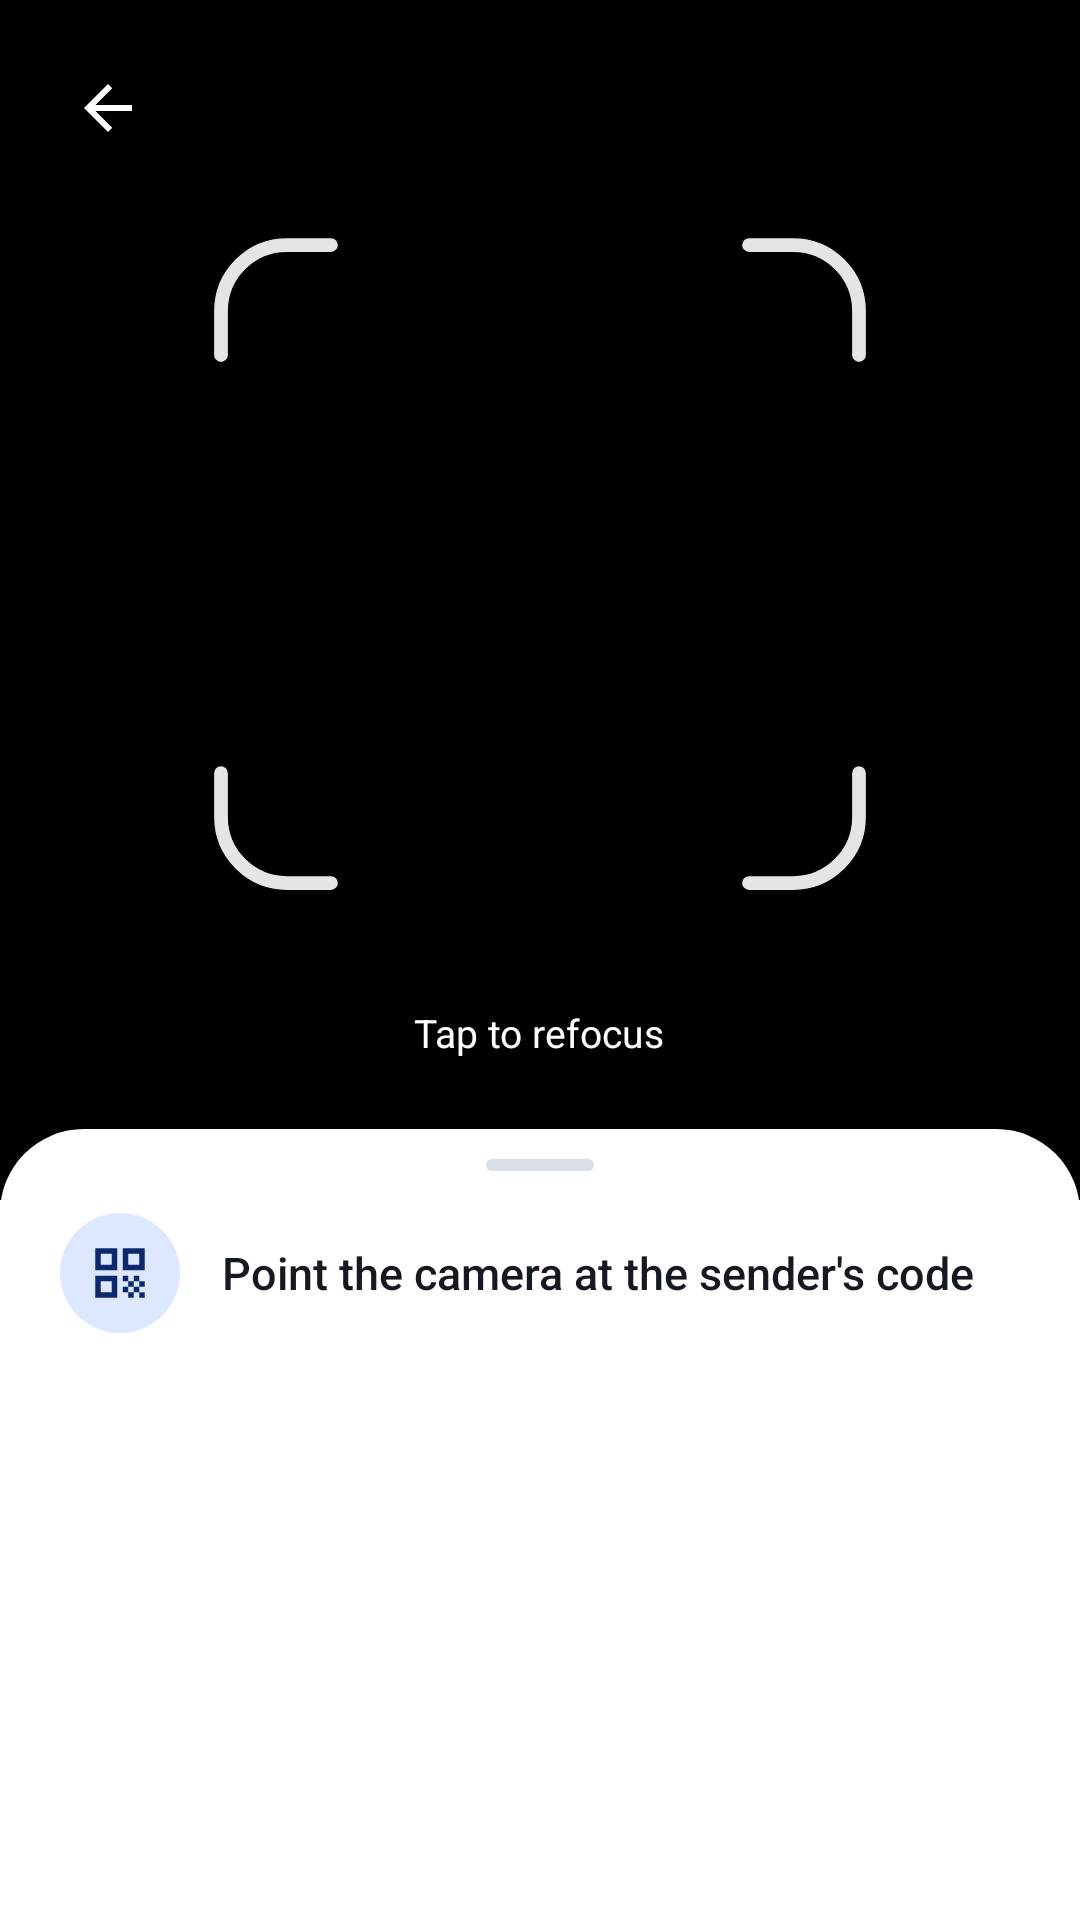

Icons on this 1080x1920 Android screen, each with its box as (x1, y1, x2, y2):
Back: (84, 84, 132, 132)
qr code: (60, 1213, 180, 1333)
